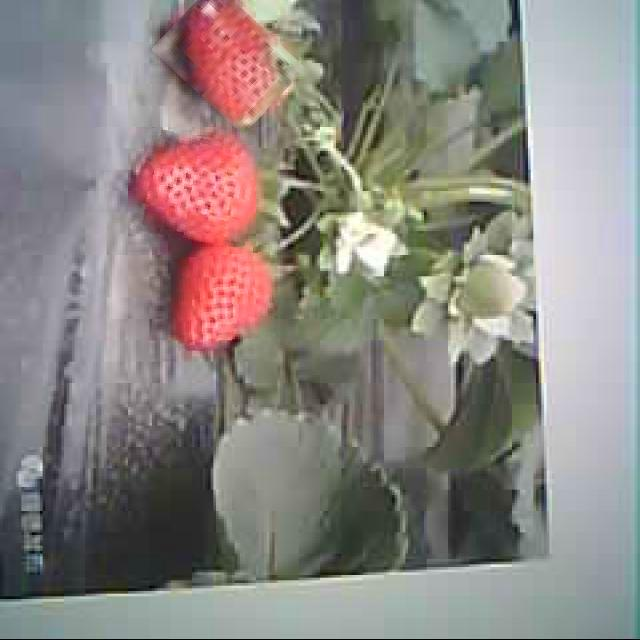strawberry: (160, 0, 299, 120), (134, 131, 258, 245), (173, 246, 274, 349)
